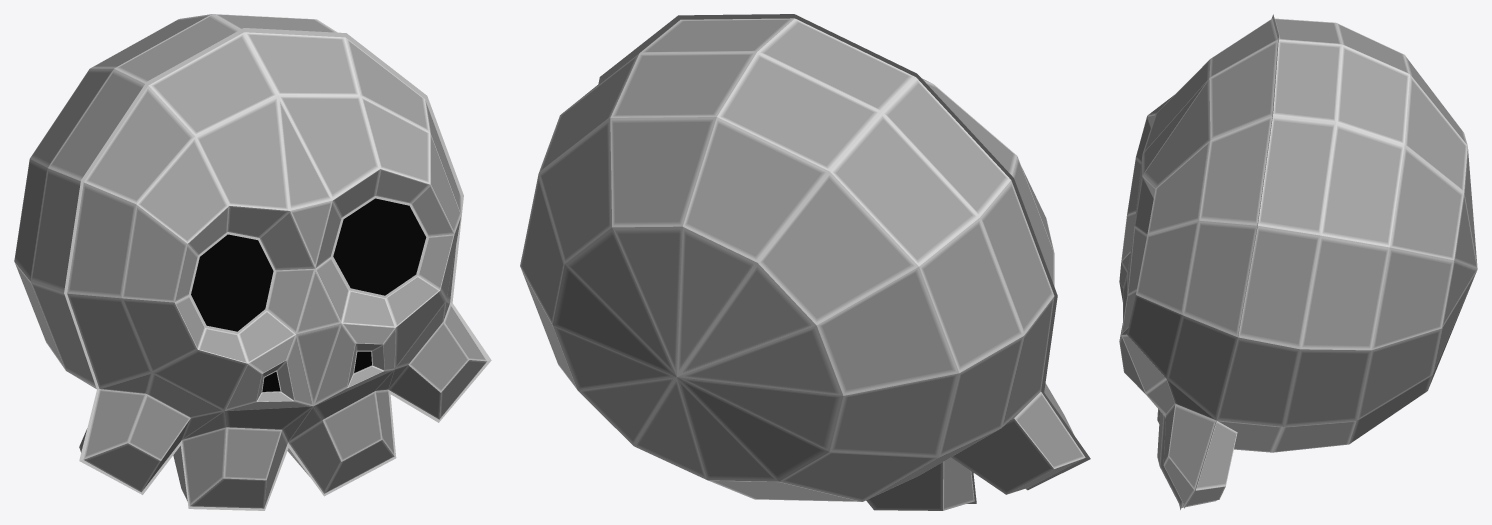
File: Czaszka0.fbx
3 renders of one model, left to right at view 1: azimuth 30°, elevation 25°; view 2: azimuth 150°, elevation 25°; view 3: azimuth 270°, elevation 25°, orthographic. The views are drawn at different scales.
Parts seen in each view (by area): view 1: Icosphere; view 2: Icosphere; view 3: Icosphere.
Boxes of the visible parts, x1,y1,x2,y2 form: Icosphere: (14,14,491,510); Icosphere: (520,14,1090,510); Icosphere: (1119,14,1477,509).
Size of the model in its own units: 250 by 254 by 186.
